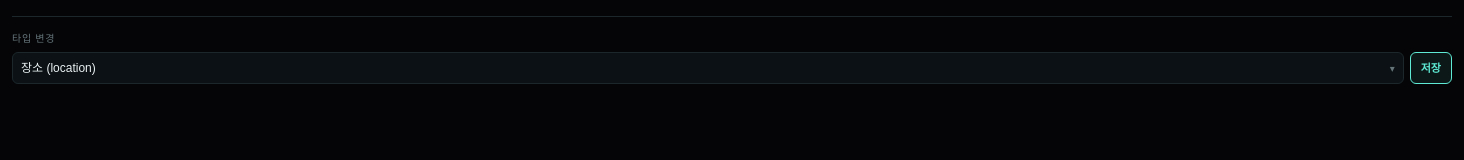
Test case: EntityTypeDropdown › calls changeEntityType then onChanged on submit
Earlier steps of the test are not shown.
Click the button with test id "entity-type-save". click: (1431, 68)
box: [1410, 52, 1452, 84]
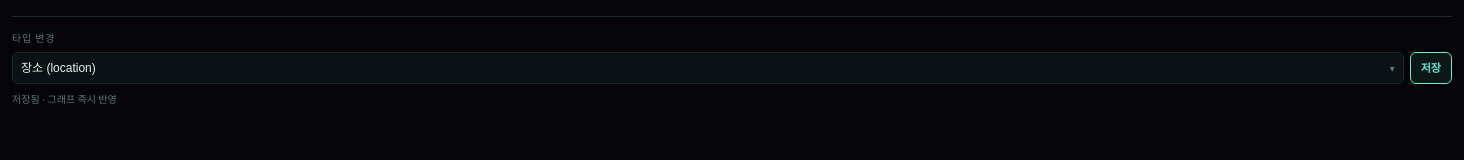
Check: the text "저장됨 · 그래프 즉시 반영" is shown, box [12, 93, 117, 106]
